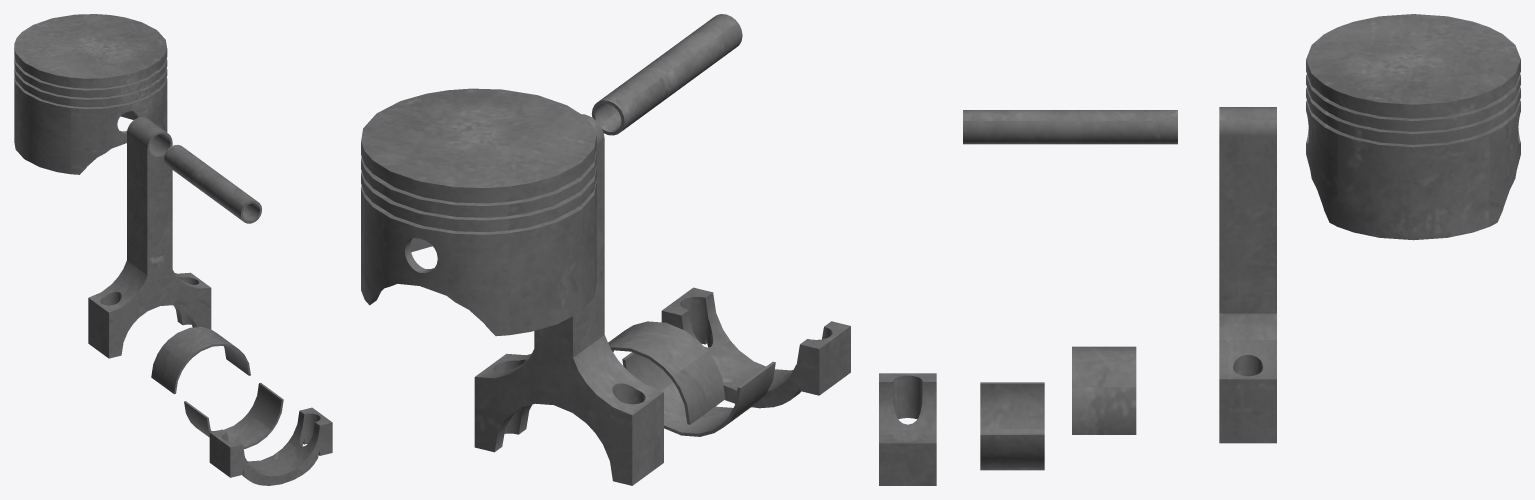
Rendered from piston_for_engine.glb.
3 views of the same model, side by side, from view 1: azimuth 30°, elevation 25°; view 2: azimuth 150°, elevation 25°; view 3: azimuth 270°, elevation 25° (orthographic). The views are drawn at different scales.
Parts seen in each view (by area): view 1: Object_2; view 2: Object_2; view 3: Object_2.
Boxes of the visible parts, box(x1,y1,x2,y2) form: Object_2: box(14, 14, 332, 485); Object_2: box(361, 14, 850, 485); Object_2: box(879, 14, 1520, 485).
Size of the model in its own units: 0.726 by 1.56 by 2.17.
1 material, 1 textured.
